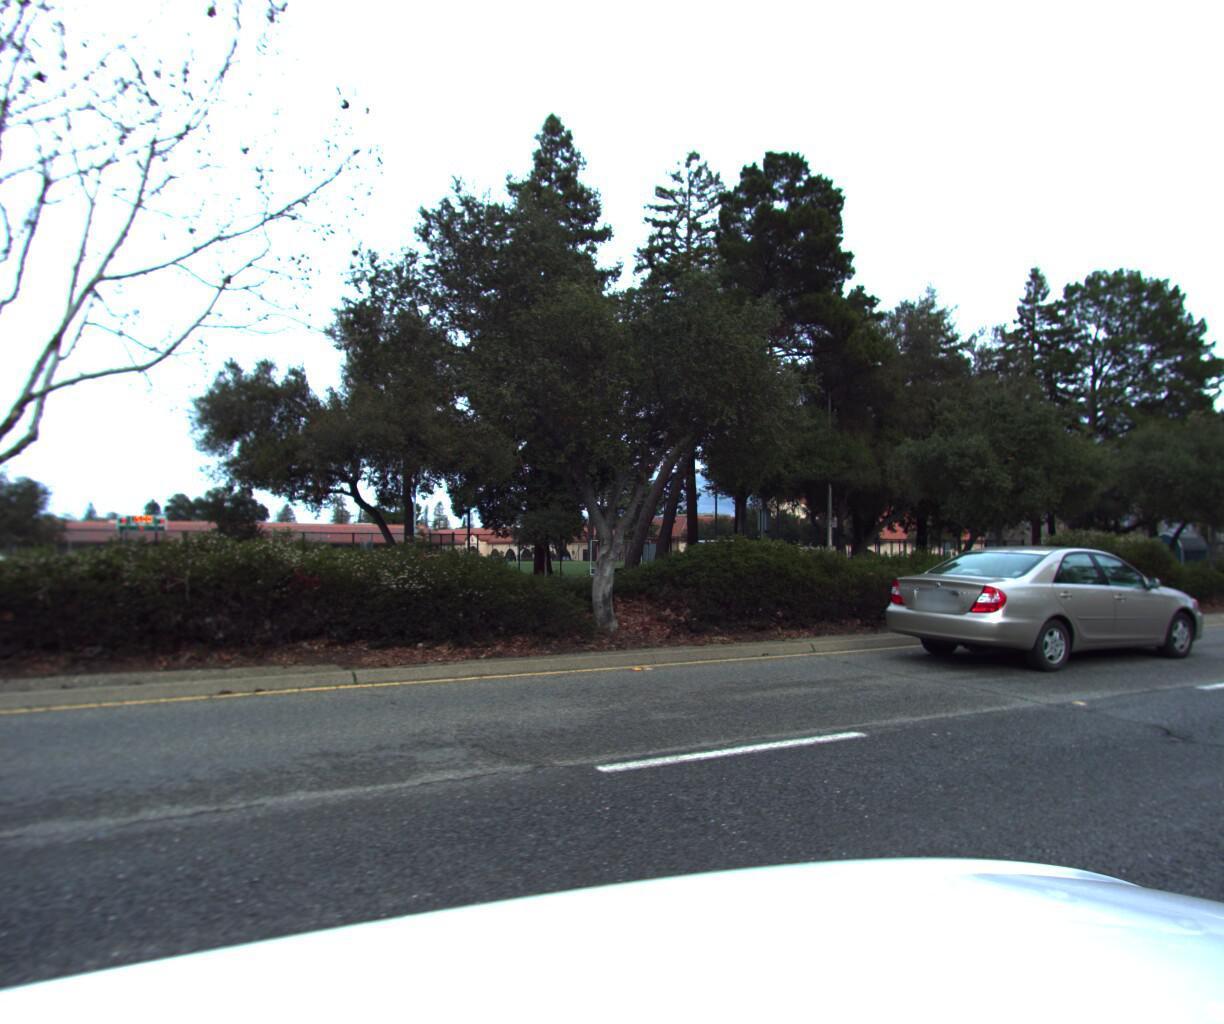car: (865, 532, 1222, 683)
